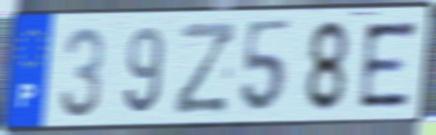3: (58, 24, 107, 120)
5: (237, 16, 297, 119)
8: (303, 17, 353, 114)
9: (122, 23, 166, 117)
E: (357, 17, 421, 112)
Z: (170, 20, 239, 119)
